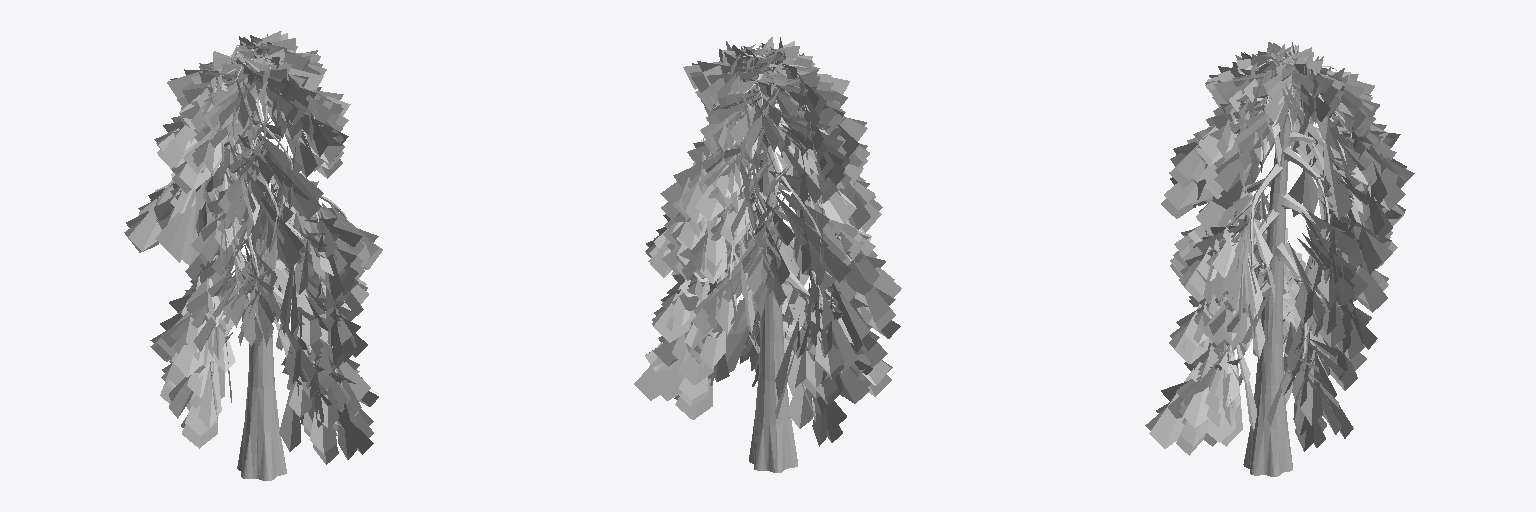
The model's file is GiantPine_1.obj.
The picture shows the model from 3 angles: view 1: azimuth 30°, elevation 25°; view 2: azimuth 150°, elevation 25°; view 3: azimuth 270°, elevation 25°; orthographic projection.
Parts seen in each view (by area): view 1: GiantPine_1; view 2: GiantPine_1; view 3: GiantPine_1.
Boxes of the visible parts, box(x1,y1,x2,y2) form: GiantPine_1: box(124, 31, 382, 480); GiantPine_1: box(634, 37, 901, 472); GiantPine_1: box(1145, 42, 1414, 476).
Bounding box in the file's own units: 9.19 × 17.16 × 9.94.